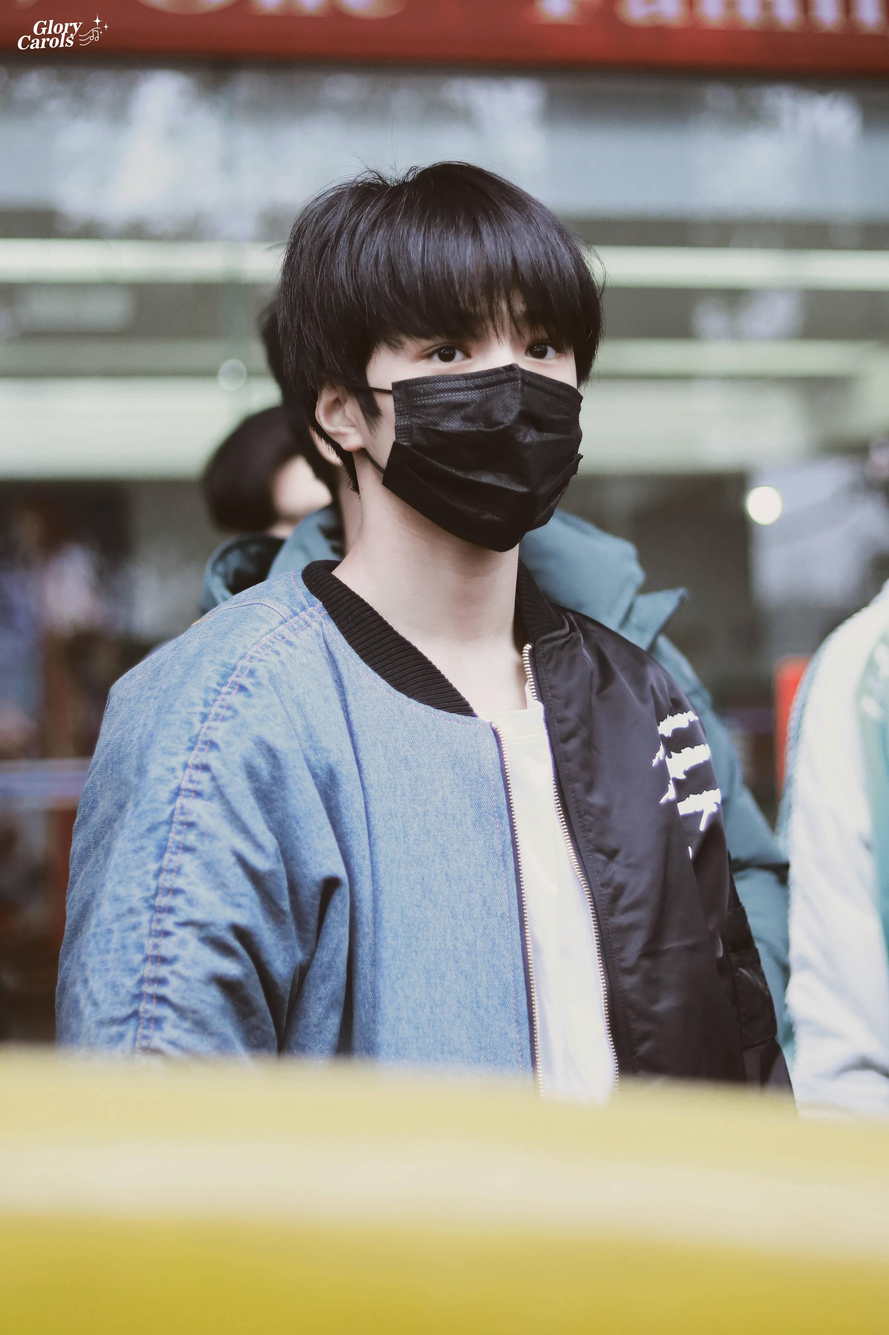OK: (383, 293, 583, 550)
